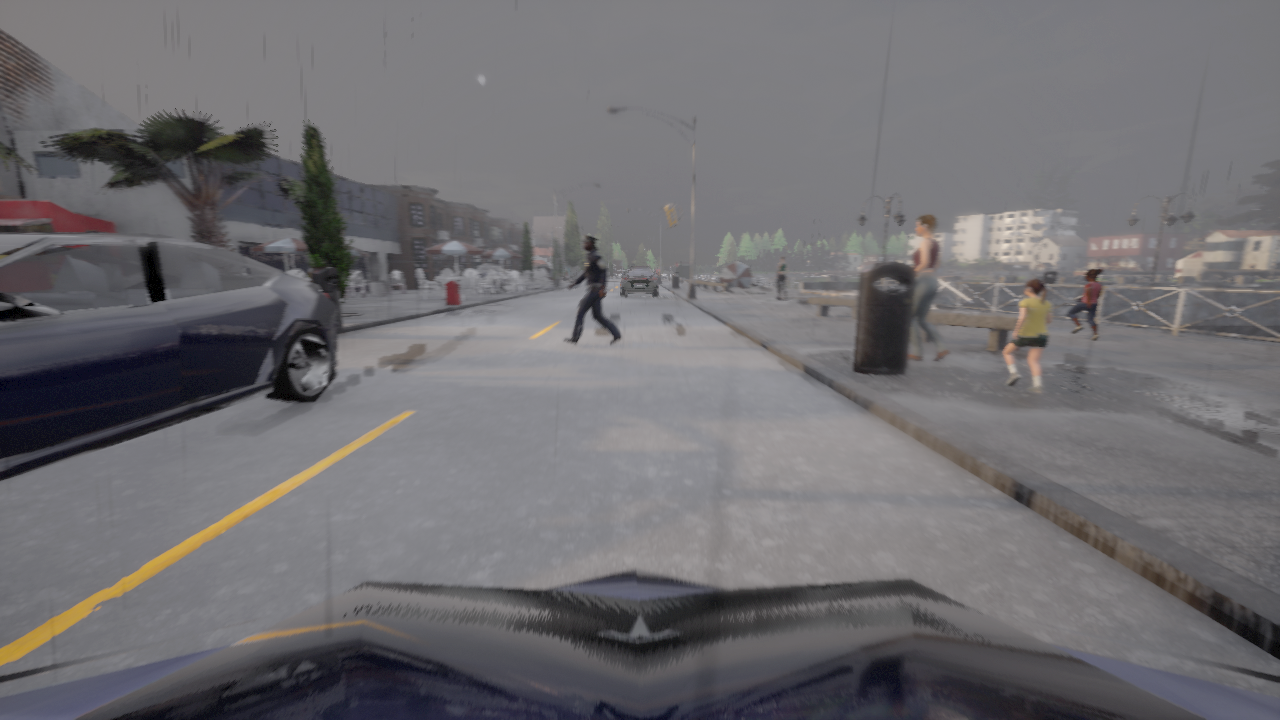cyclist: (0, 569, 1279, 719), (621, 267, 658, 296), (477, 264, 506, 289), (660, 202, 683, 229), (575, 271, 583, 288)
pedestrian: (563, 234, 622, 344), (907, 214, 951, 361), (1003, 278, 1052, 393), (1067, 270, 1101, 339), (776, 256, 788, 299)
